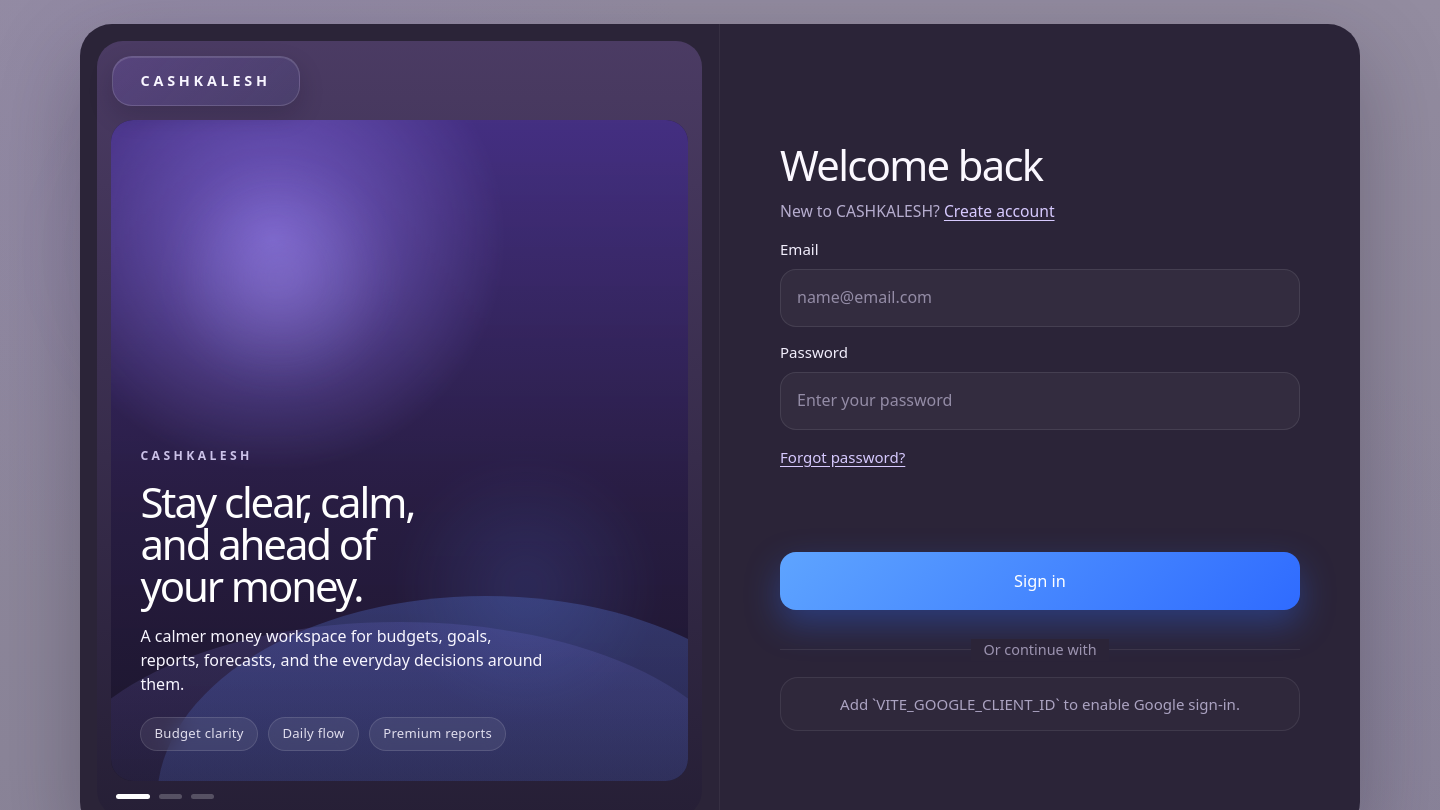
Test: AuthScreen › switches modes and shows mode-specific fields
Expected: the button "Sign in" is shown, [780, 552, 1300, 610]
Click the button "Create account" at x=999, y=211, box [944, 199, 1054, 224]
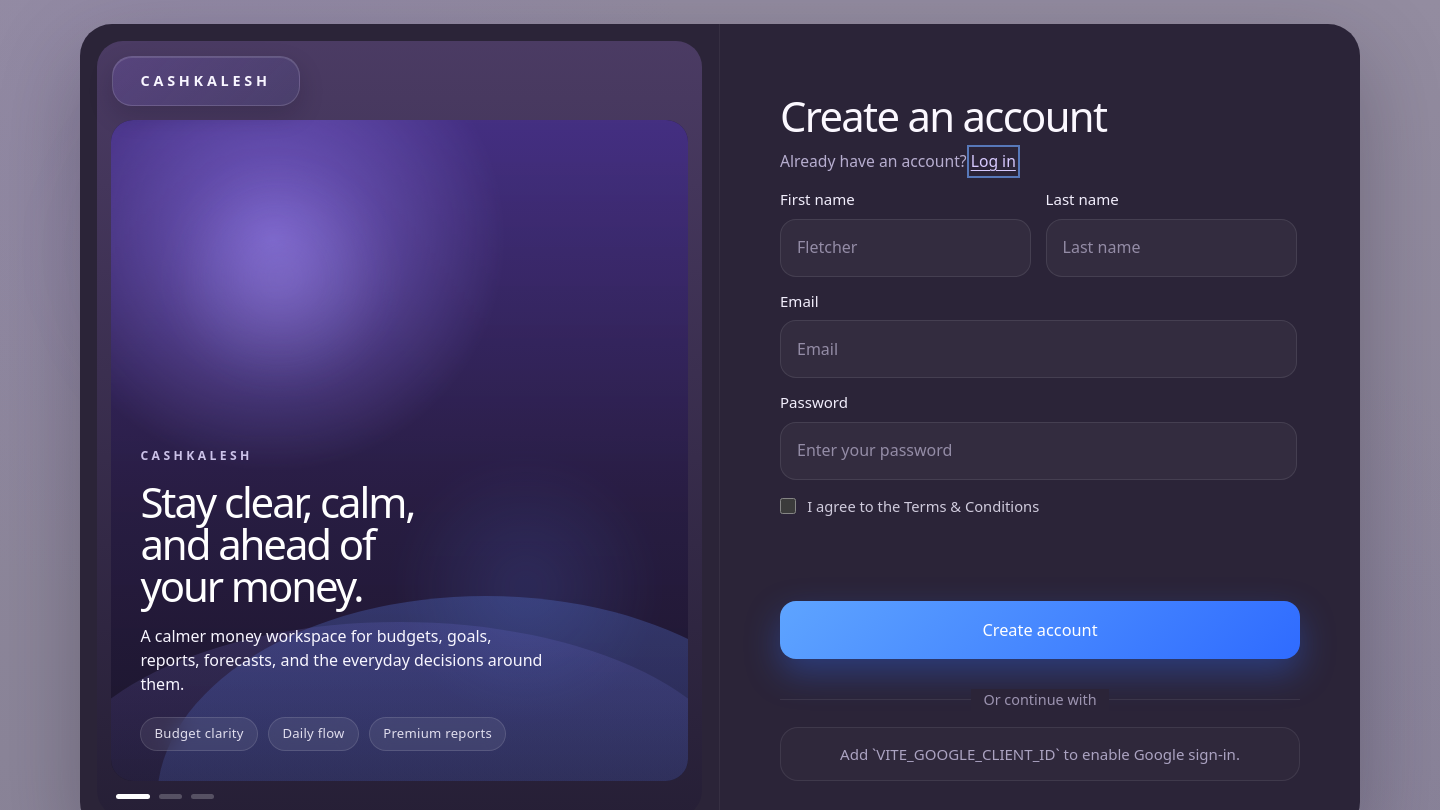
Expected: the field labelled "First name" is shown, [780, 219, 1031, 277]
Result: the field labelled "Last name" is shown at [1046, 219, 1297, 277]
Result: the button "Create account" is shown at [780, 602, 1300, 660]
